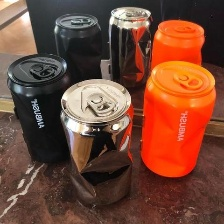can: (58, 75, 134, 211), (138, 59, 219, 179), (4, 51, 72, 168), (105, 4, 155, 91), (54, 11, 106, 84), (149, 16, 208, 69)
